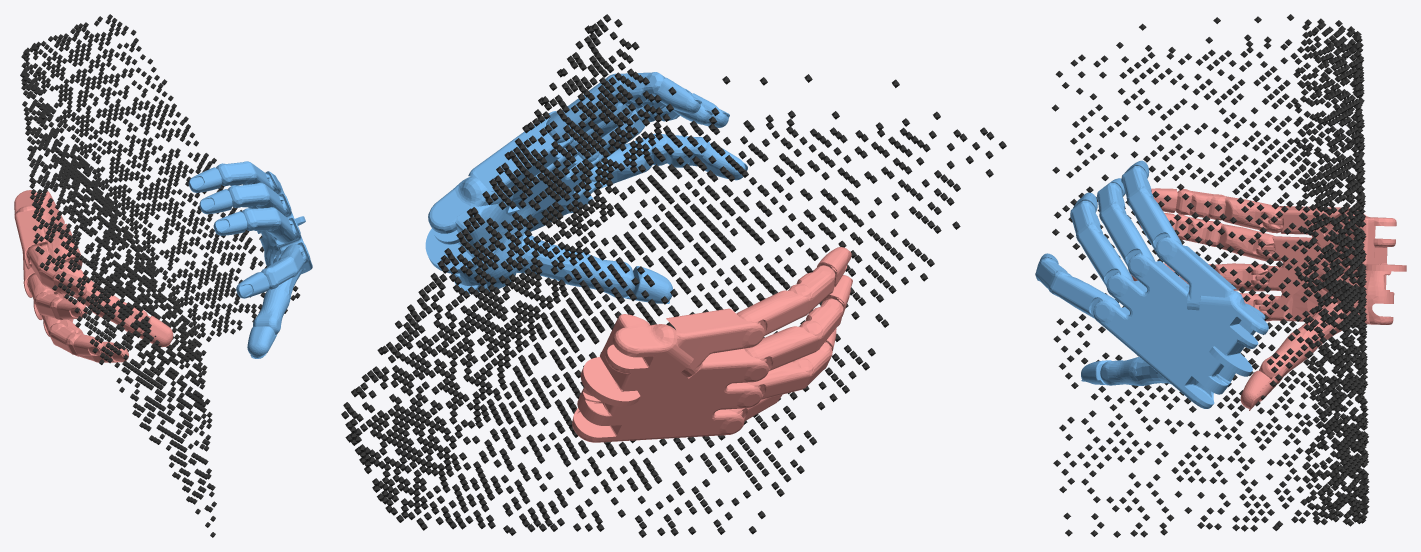
The model's file is ddg_gd_box_poisson_019_scale024_inference.glb.
The picture shows the model from 3 angles, left to right: view 1: azimuth 30°, elevation 25°; view 2: azimuth 150°, elevation 25°; view 3: azimuth 270°, elevation 25°; orthographic projection. The views are drawn at different scales.
Parts seen in each view (by area): view 1: object_pointcloud, right_shadow_hand, left_shadow_hand; view 2: object_pointcloud, left_shadow_hand, right_shadow_hand; view 3: object_pointcloud, right_shadow_hand, left_shadow_hand.
Part boxes in pixels (left/top/right/bottom): object_pointcloud: left=20, top=14, right=300, bottom=537; right_shadow_hand: left=188, top=161, right=312, bottom=358; left_shadow_hand: left=14, top=190, right=173, bottom=362; object_pointcloud: left=341, top=14, right=1006, bottom=537; left_shadow_hand: left=572, top=247, right=852, bottom=442; right_shadow_hand: left=425, top=72, right=747, bottom=303; object_pointcloud: left=1052, top=14, right=1369, bottom=537; right_shadow_hand: left=1035, top=160, right=1268, bottom=408; left_shadow_hand: left=1131, top=188, right=1406, bottom=410.
Size of the model in its own units: 0.3589 by 0.4174 by 0.2739.
